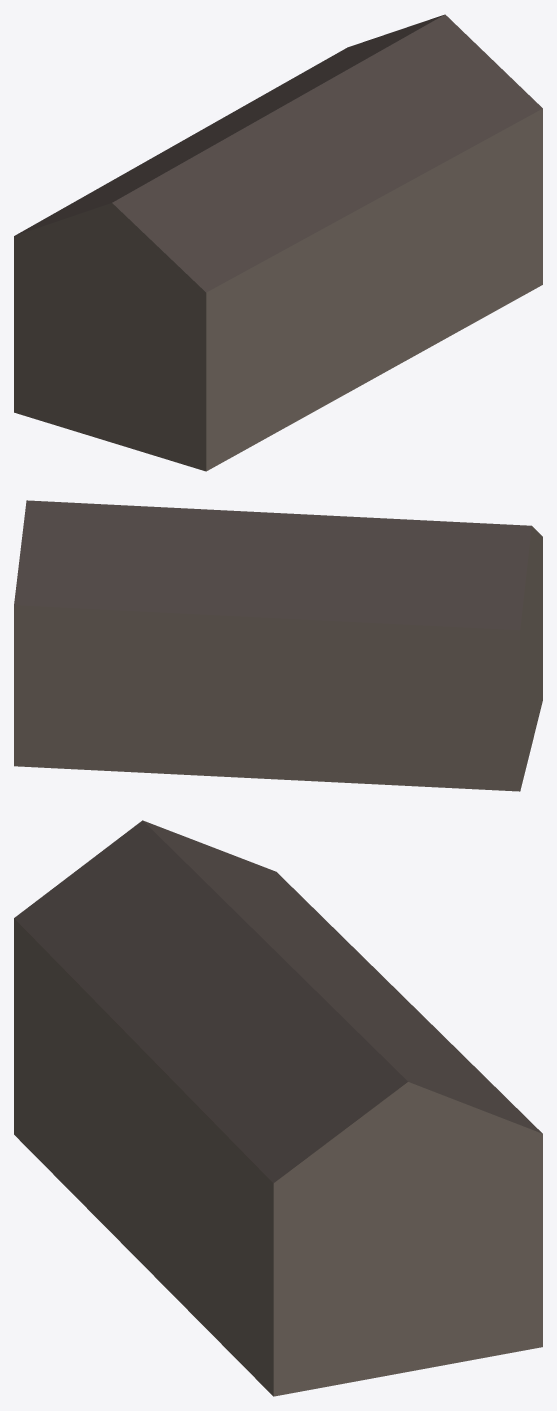
The picture shows the model from 3 angles, top to bottom: view 1: azimuth 30°, elevation 25°; view 2: azimuth 150°, elevation 25°; view 3: azimuth 270°, elevation 25°; orthographic projection. The views are drawn at different scales.
Parts seen in each view (by area): view 1: HP-w1198845805; view 2: HP-w1198845805; view 3: HP-w1198845805.
Part boxes in pixels (bbox=[...]): HP-w1198845805: bbox=[14, 14, 542, 471]; HP-w1198845805: bbox=[14, 500, 542, 791]; HP-w1198845805: bbox=[14, 820, 542, 1396].
Size of the model in its own units: 18.8 by 8.16 by 13.49.
